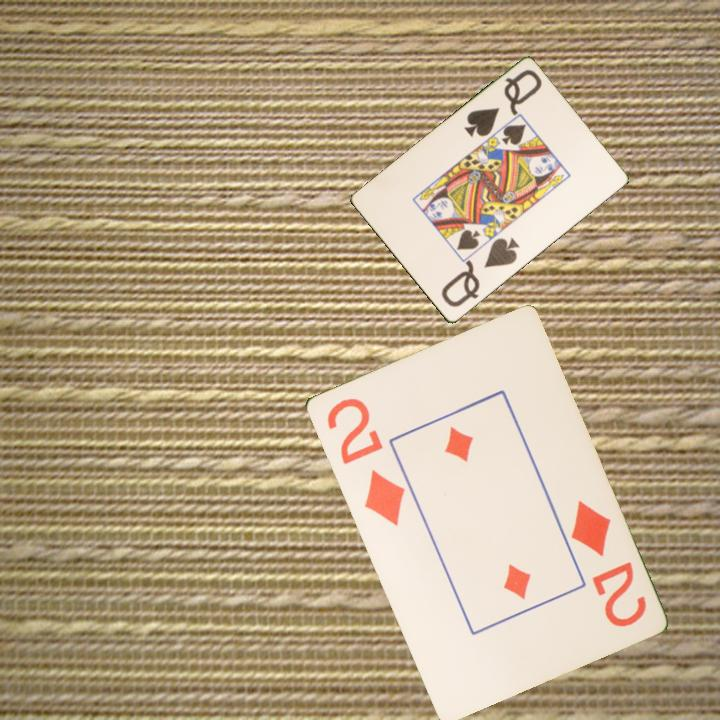2d: (322, 394, 407, 529), (566, 496, 649, 630)
Qs: (437, 234, 523, 311), (460, 66, 545, 141)
